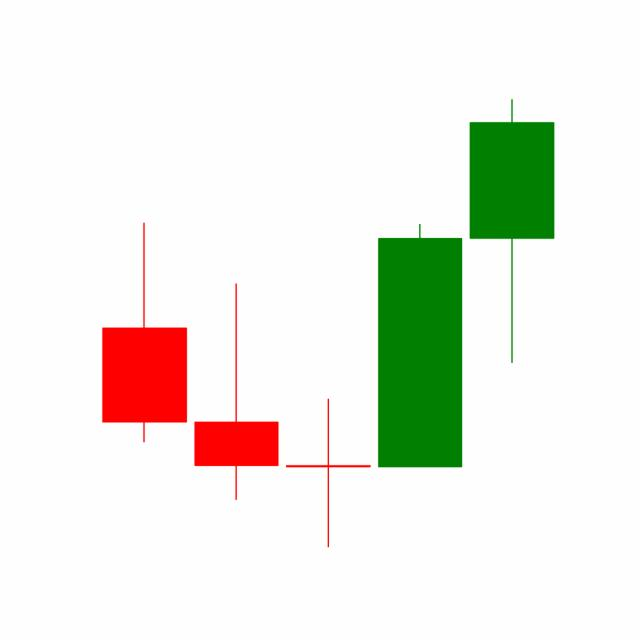Marubozu: (373, 221, 467, 469)
